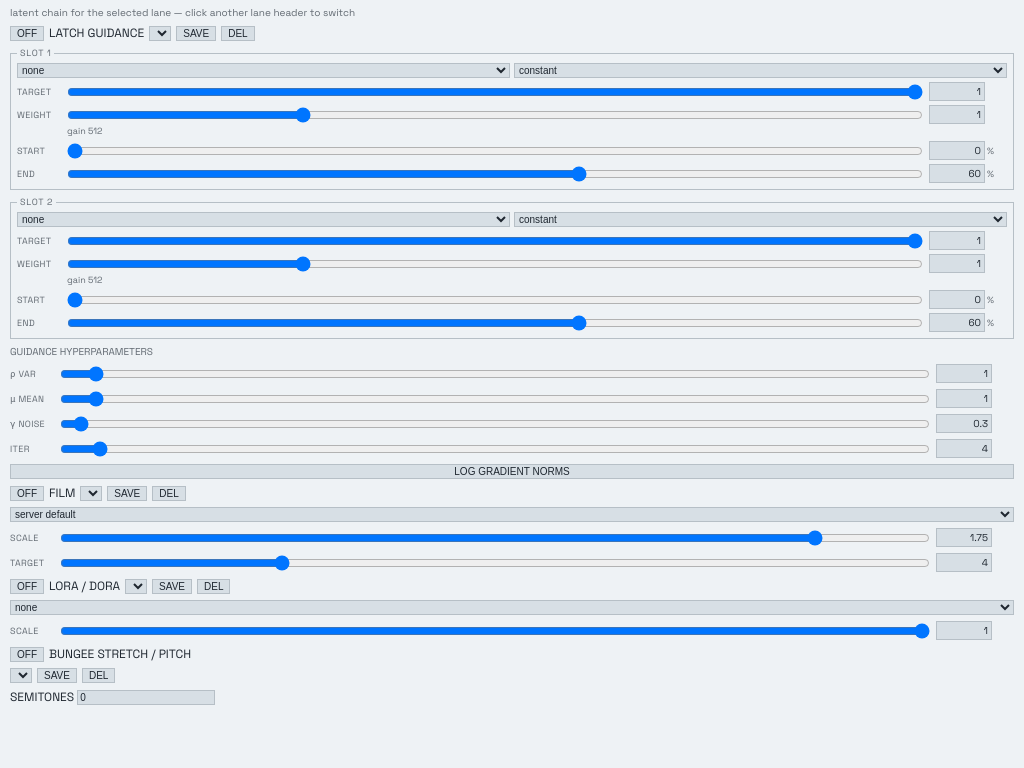
LATCH slot controls: unit and value, text fields, the head's weight limit, ramps with two ends › a typed target outside the slider's range is kept, and its distance from the mean is shown
Select "hardness · medium" in the dropdown named "HEAD — slot 1" at [264, 70], box [17,63,510,78]
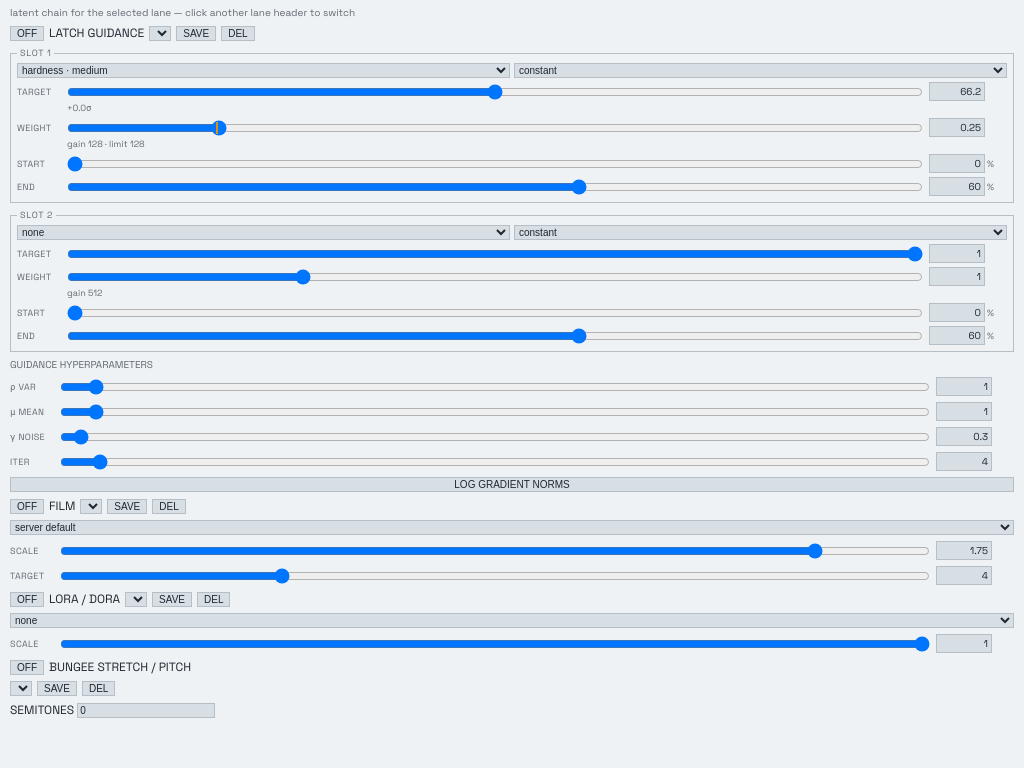
Expected: the text "+0.0σ" is shown, [67,102,92,114]
Replace the text in the number field named "TARGET — slot 1" with "55" at [957, 92], box [929,82,985,101]
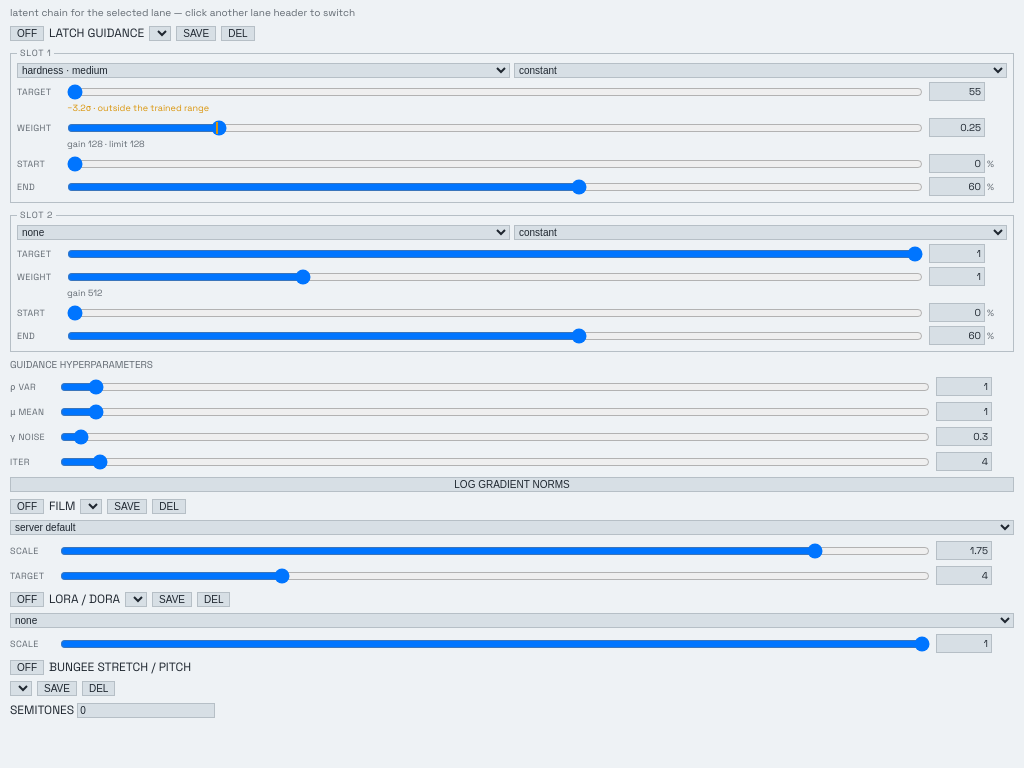
Expected: the text "−3.2σ · outside the trained range" is shown, [67,102,209,114]
